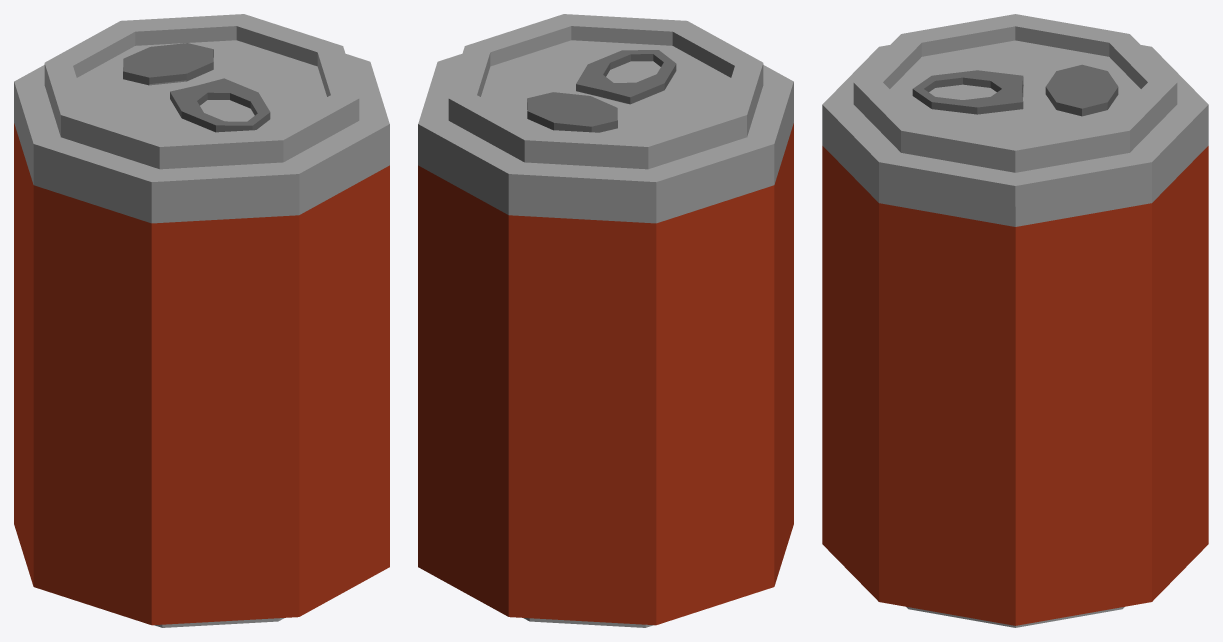
Rendered from RedCan.fbx.
3 views of the same model, side by side, from view 1: azimuth 30°, elevation 25°; view 2: azimuth 150°, elevation 25°; view 3: azimuth 270°, elevation 25° (orthographic).
Visible parts, largest first — view 1: Cube.009, Cube.008, Cube.007; view 2: Cube.009, Cube.008, Cube.007; view 3: Cube.009, Cube.008, Cube.007.
Part boxes in pixels (x1,y1,x2,y2): Cube.009: [14, 14, 389, 627]; Cube.008: [170, 78, 270, 132]; Cube.007: [123, 43, 213, 85]; Cube.009: [418, 14, 793, 627]; Cube.008: [576, 50, 676, 104]; Cube.007: [527, 92, 617, 132]; Cube.009: [822, 14, 1208, 627]; Cube.008: [912, 70, 1023, 114]; Cube.007: [1045, 64, 1118, 116].
Size of the model in its own units: 36.24 by 49.88 by 36.24.
